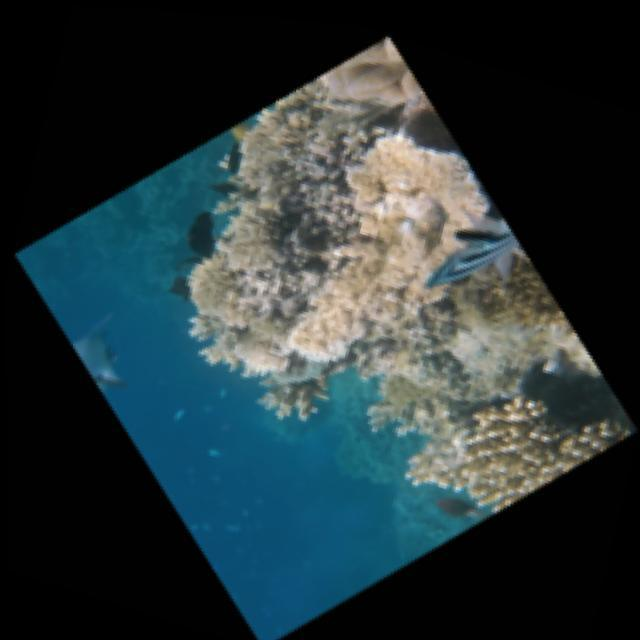Dead Coral: (418, 208, 588, 348)
